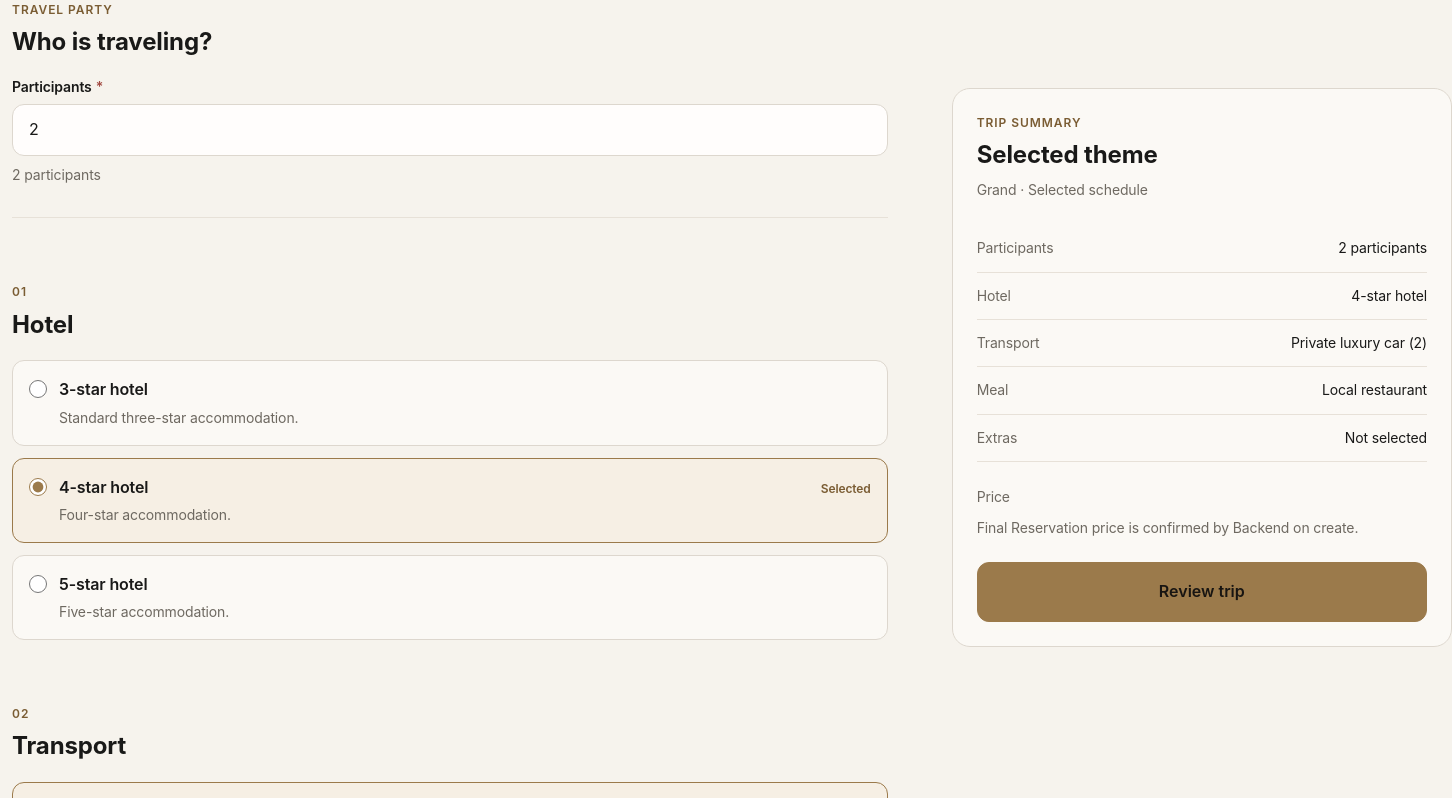
ConfigureDesktop transport capacity (BR-20, frontend#66) › blocks Review when travellers are raised above the 2-seat car capacity
Expected: the button "Review trip" is enabled, [977,562,1427,622]
Expected: the text "seats up to 2 travellers, but 4 are traveling" is not shown
Replace the text in the number field labelled "Participants *" with "4": (450, 130) [12,104,888,156]
(page scrolled)
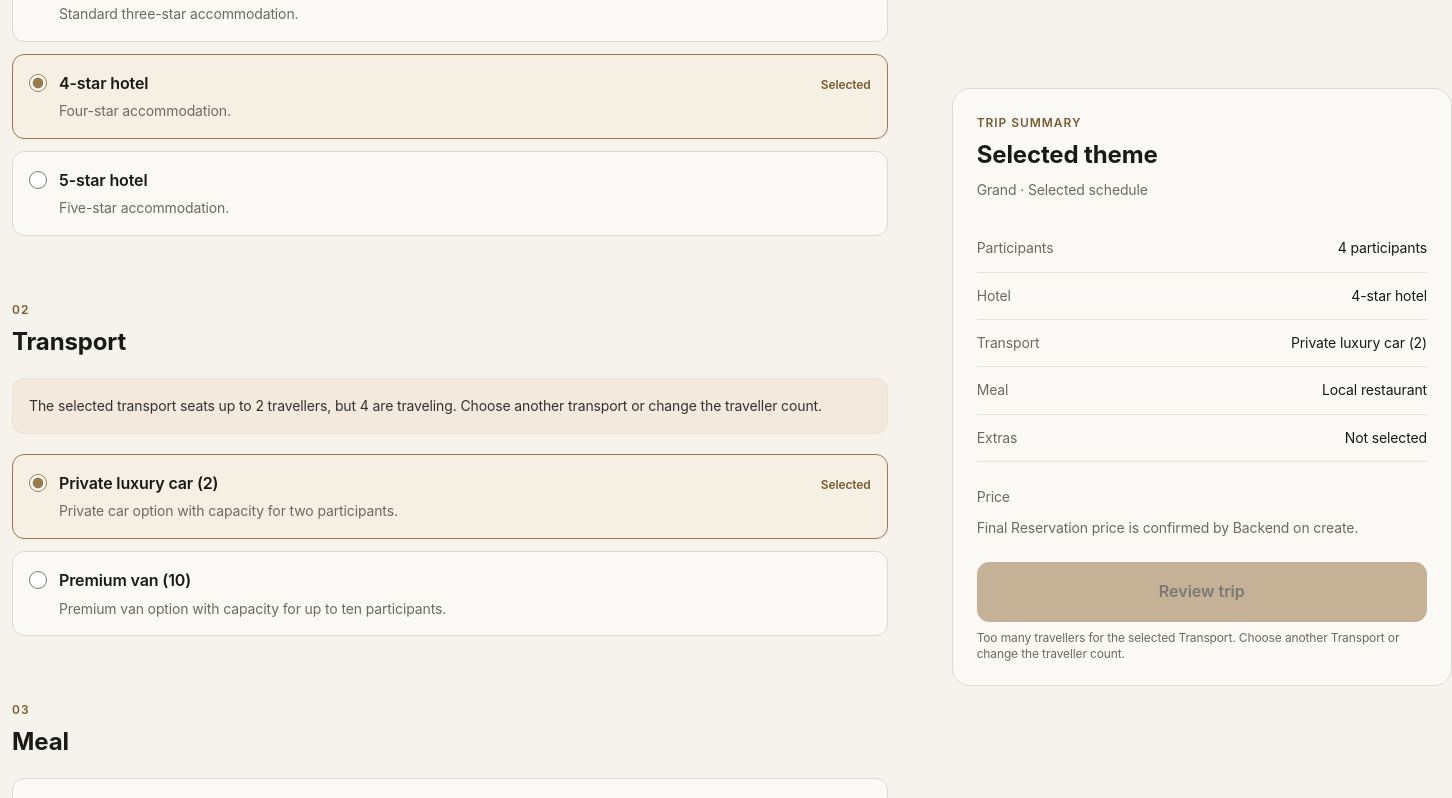
Expected: the button "Review trip" is disabled, [977,562,1427,622]
Expected: the text "seats up to 2 travellers, but 4 are traveling" is shown, [29,397,822,414]
